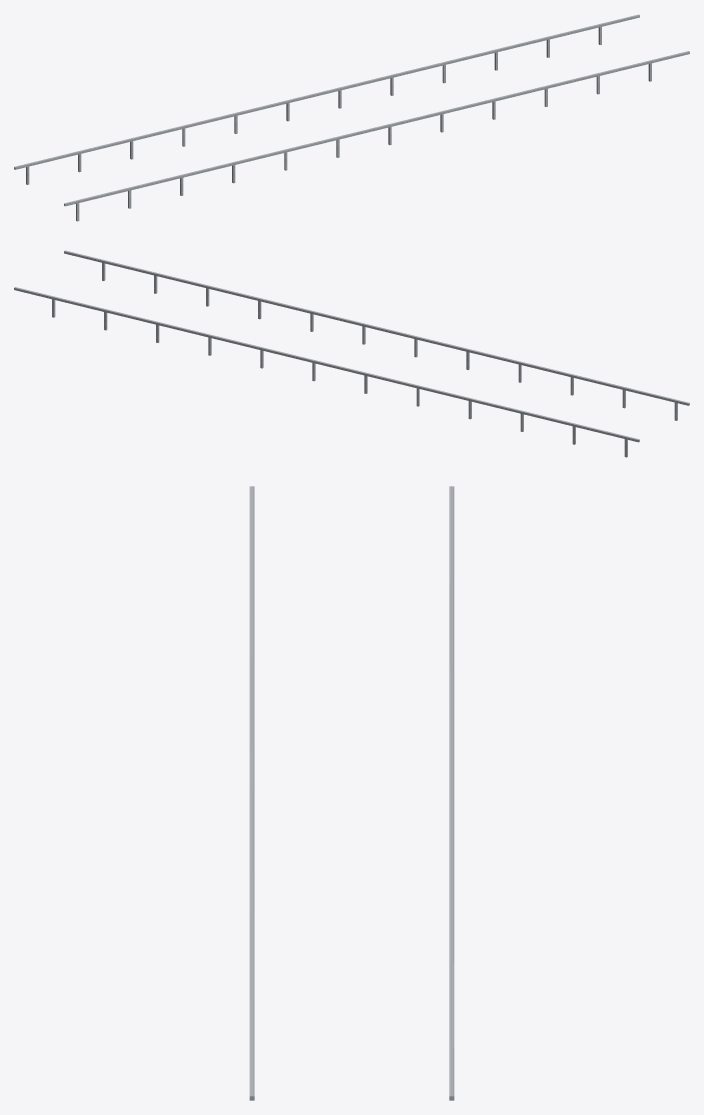
File: BridgeRailing.glb
The picture shows the model from 3 angles, top to bottom: view 1: azimuth 30°, elevation 25°; view 2: azimuth 150°, elevation 25°; view 3: azimuth 270°, elevation 25°; orthographic projection. The views are drawn at different scales.
Visible parts, largest first — view 1: bridge-railing-top (×2); view 2: bridge-railing-top (×2); view 3: bridge-railing-top (×2).
Part boxes in pixels (left/top/right/bottom): bridge-railing-top (×2): left=14, top=14, right=689, bottom=206; bridge-railing-top (×2): left=14, top=250, right=689, bottom=442; bridge-railing-top (×2): left=249, top=486, right=454, bottom=1100.
Bounding box in the file's own units: 24 × 0.74 × 3.4.
1 material, 1 textured.
